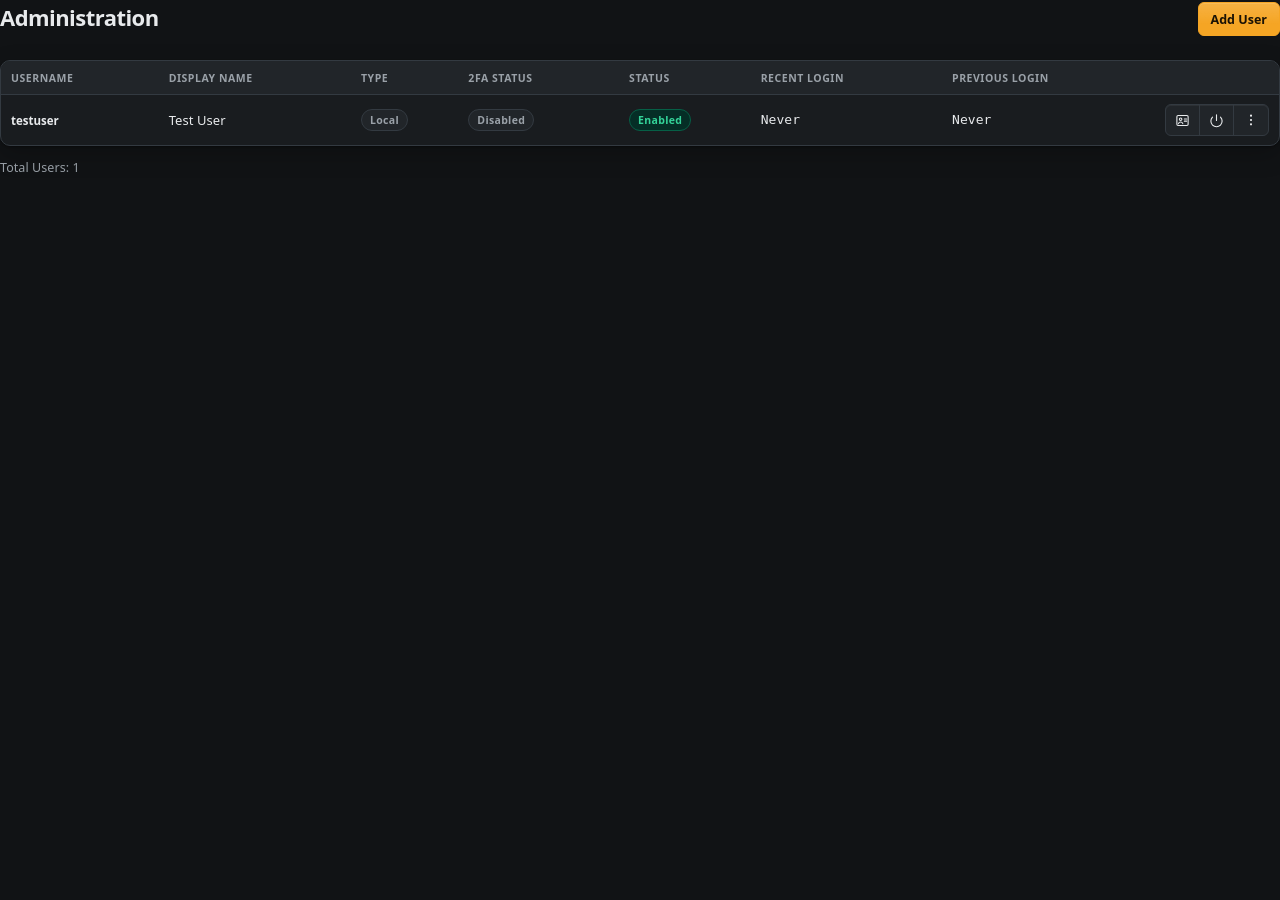
Test: Users: the details modal › a local user shows its type as it arrives and can edit name and display name
Click the button named "View Details" at (1182, 120), box [1166, 105, 1199, 135]
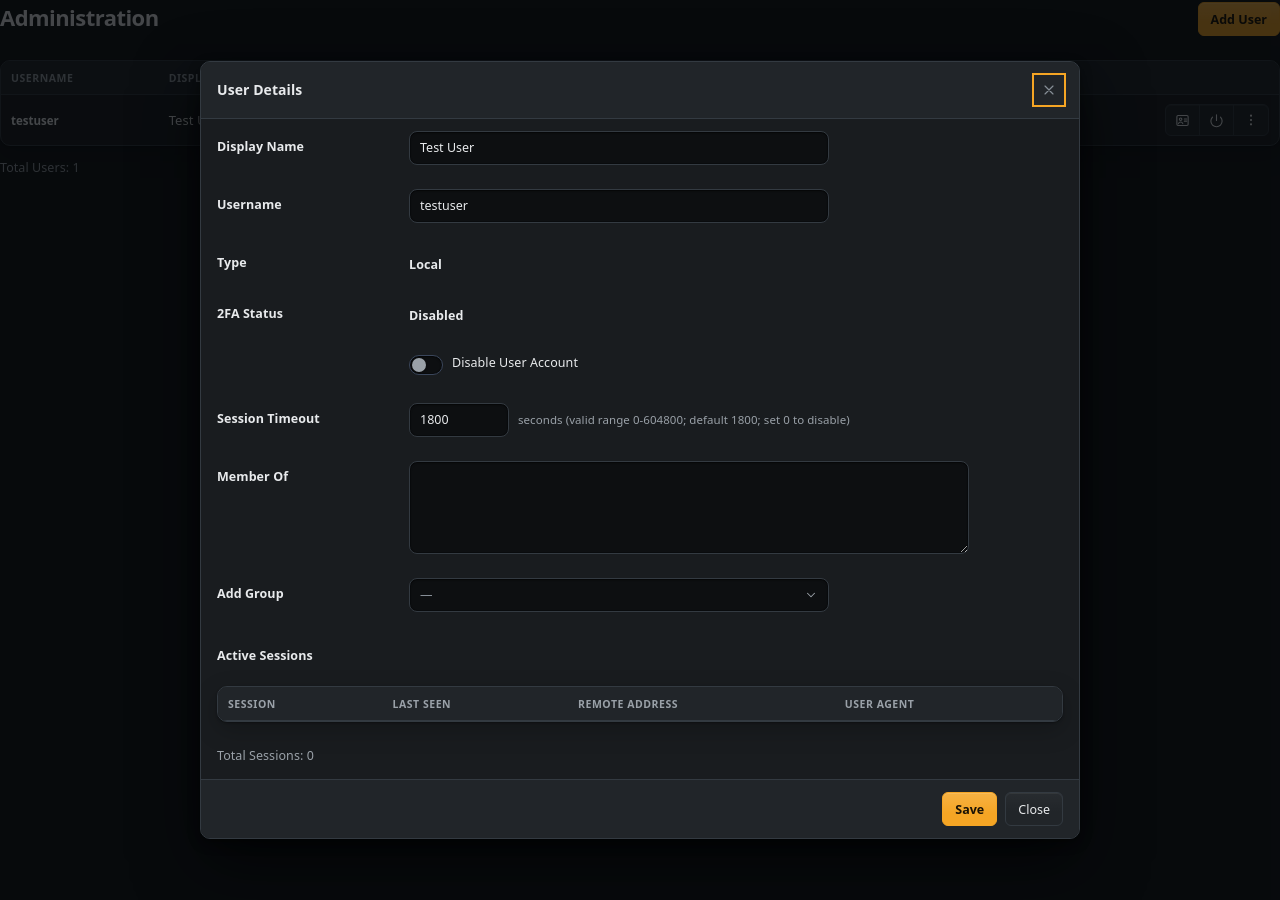
expect the field labelled "Display Name" is enabled: met, box [409, 131, 829, 165]
expect the field labelled "Username" is enabled: met, box [409, 189, 829, 223]
expect the text "Local" is shown: met, box [409, 256, 442, 273]
